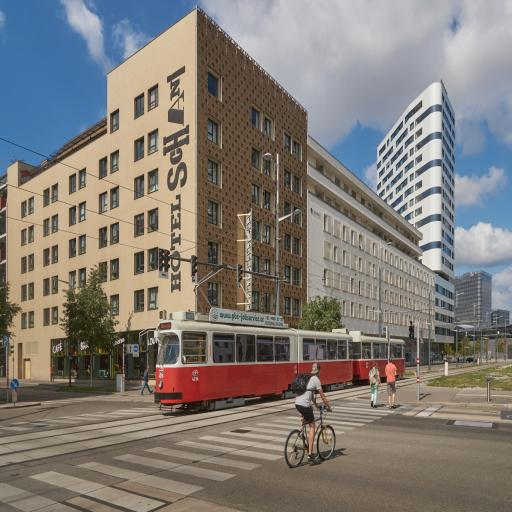E2-Tram: (155, 308, 406, 410)
